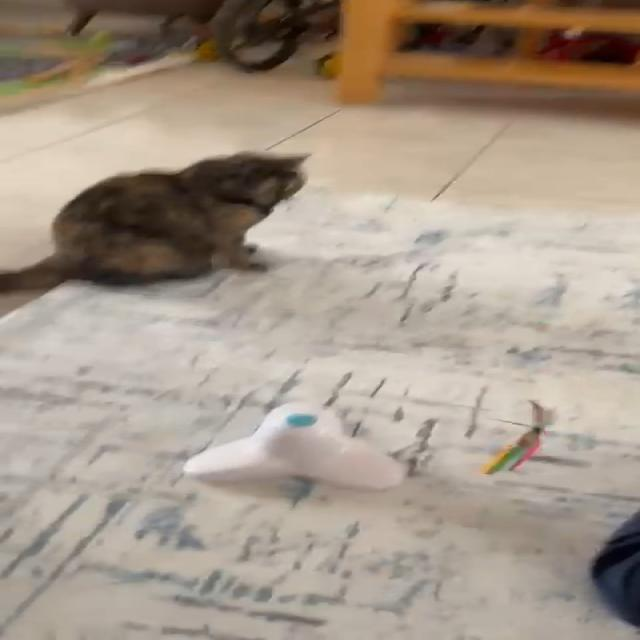authorized: (0, 148, 311, 294)
